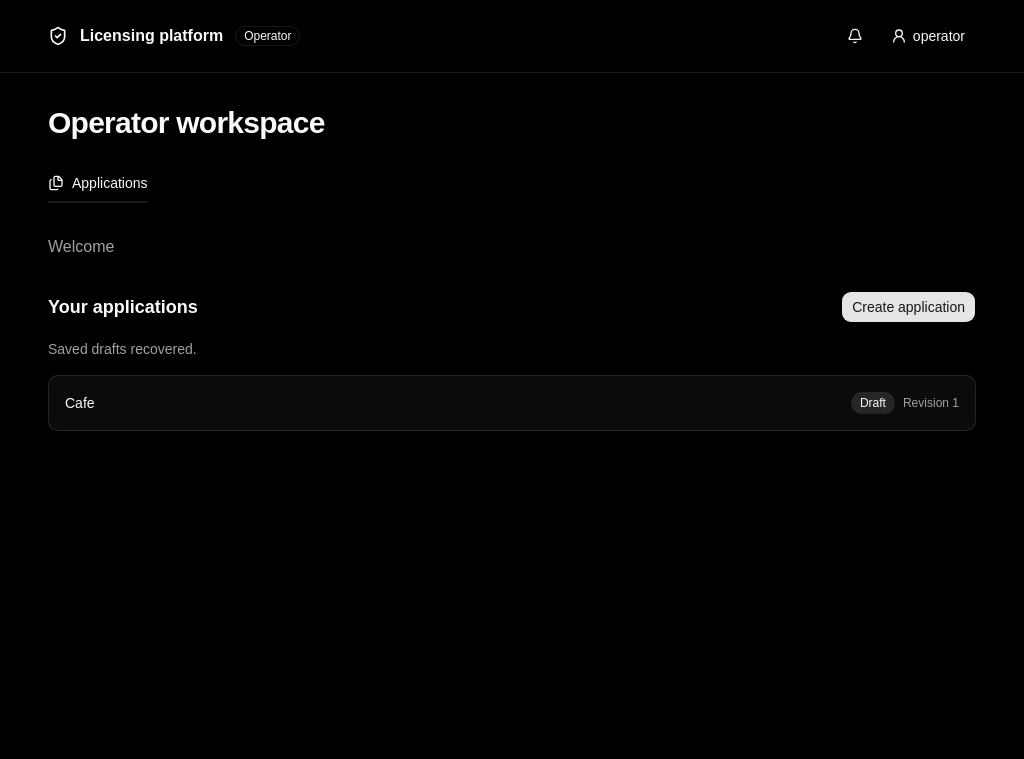
authentication workspace › links operation errors, retains input, and locks controls during a pending save
The width and height of the screenshot is (1024, 759).
Step 1. Click the button "Cafe Draft Revision 1" → x=873, y=403, box [48, 375, 976, 431]
(page scrolled)
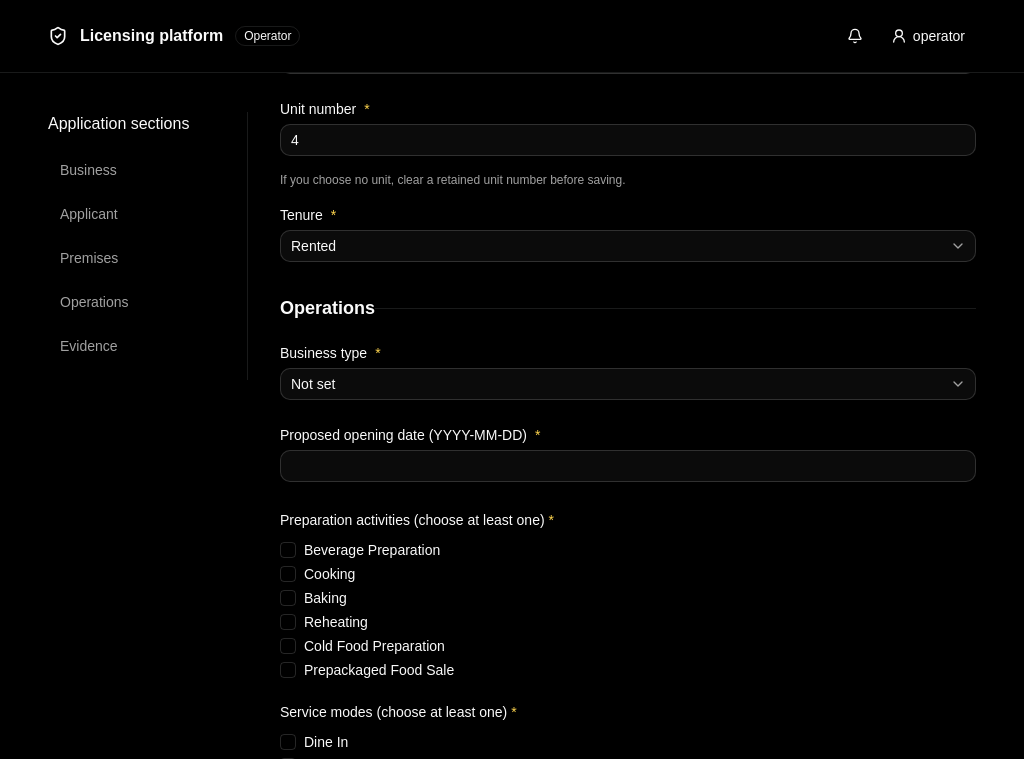
Step 2. Select "Café" in the dropdown named "Business type (required to submit)" → x=628, y=384, box [280, 368, 976, 400]
(page scrolled)
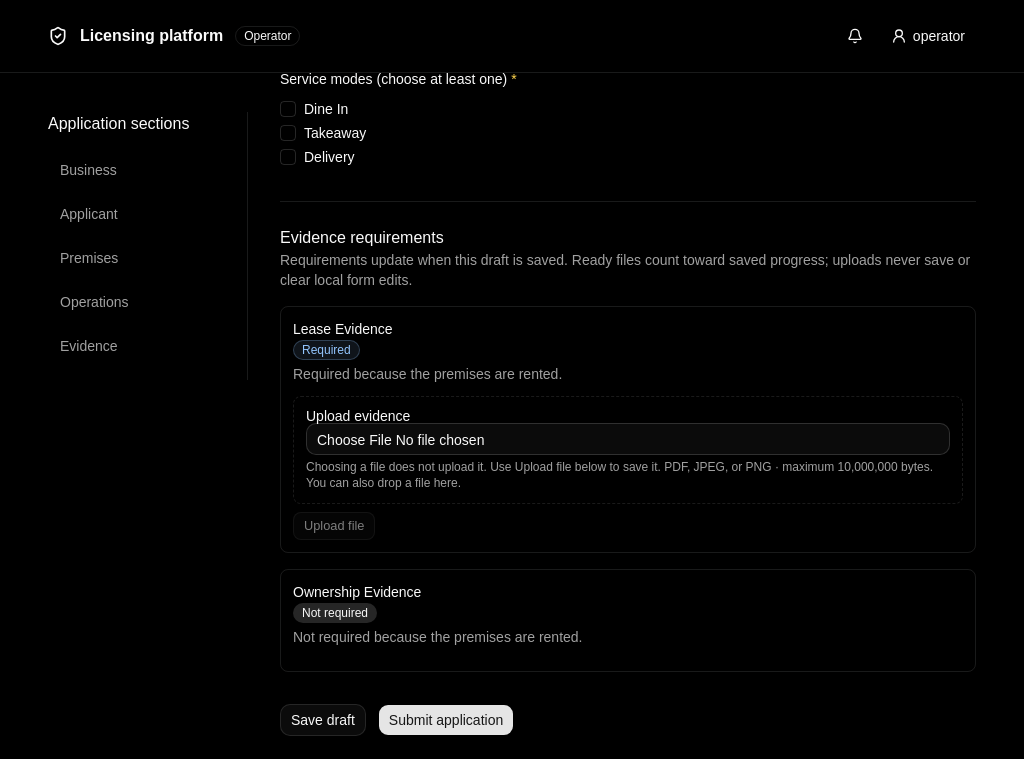
Step 3. Click the button "Save draft" → x=323, y=720, box [280, 704, 366, 736]
(page scrolled)
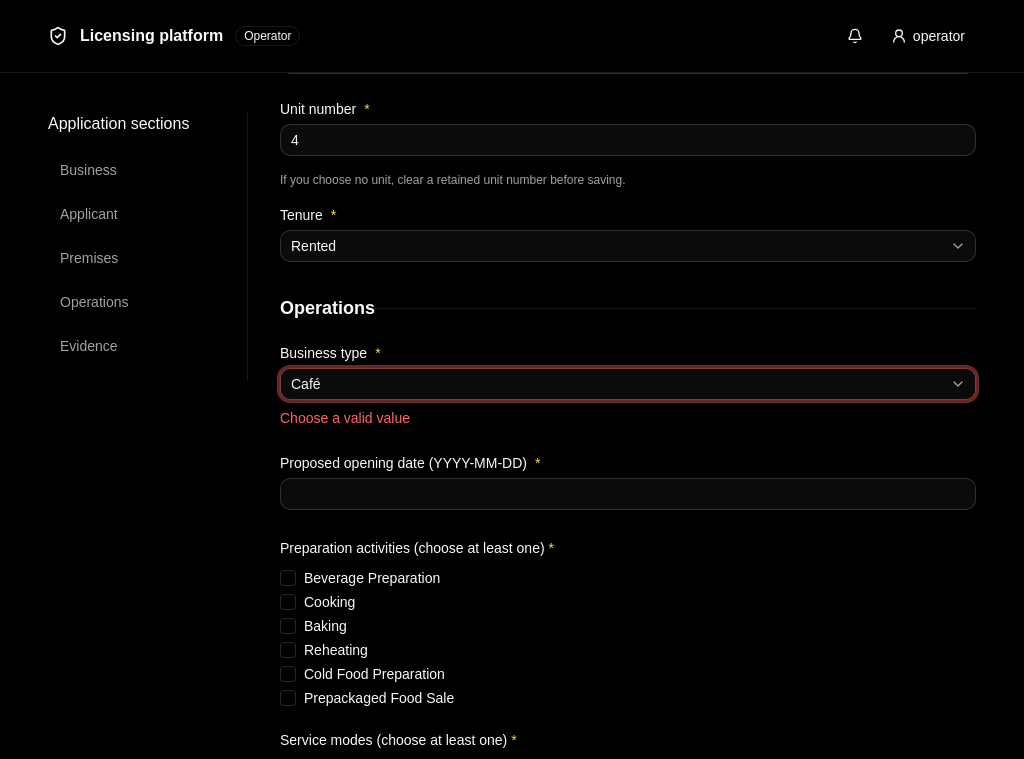
Expected: the text "Choose a valid value" is shown, [280, 410, 410, 426]
